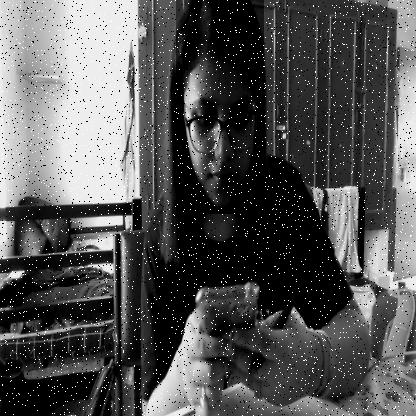Normal: (176, 0, 264, 214)
